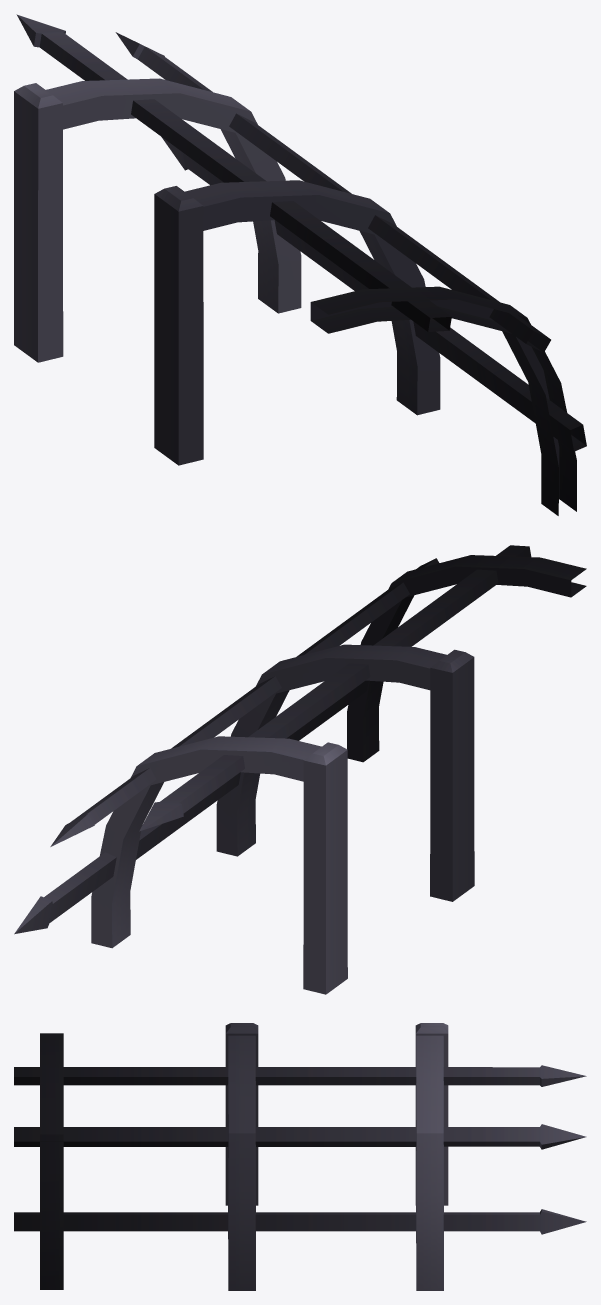
File: Pillar Feet Fence 01.FBX
3 views of the same model, one above another, from view 1: azimuth 30°, elevation 25°; view 2: azimuth 150°, elevation 25°; view 3: azimuth 270°, elevation 25° (orthographic). The views are drawn at different scales.
Parts seen in each view (by area): view 1: Pillar Feet Fence 01; view 2: Pillar Feet Fence 01; view 3: Pillar Feet Fence 01.
Boxes of the visible parts, bbox=[...] form: Pillar Feet Fence 01: bbox=[14, 14, 586, 515]; Pillar Feet Fence 01: bbox=[14, 545, 586, 994]; Pillar Feet Fence 01: bbox=[14, 1023, 586, 1290].
Bounding box in the file's own units: 78.12 × 76.52 × 217.
